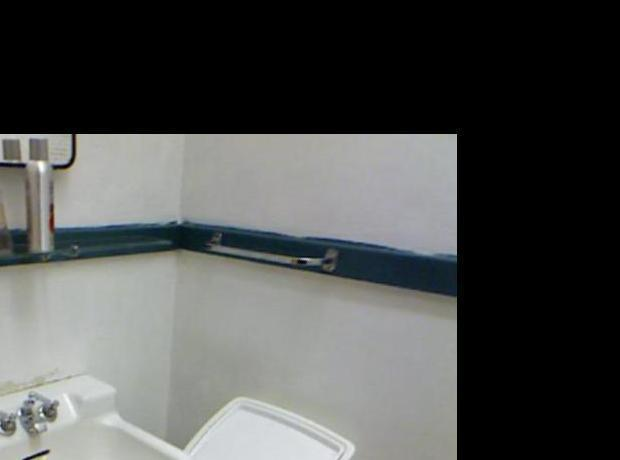Bote de Basura: (158, 399, 355, 460)
Lavamanos: (0, 363, 200, 460)
